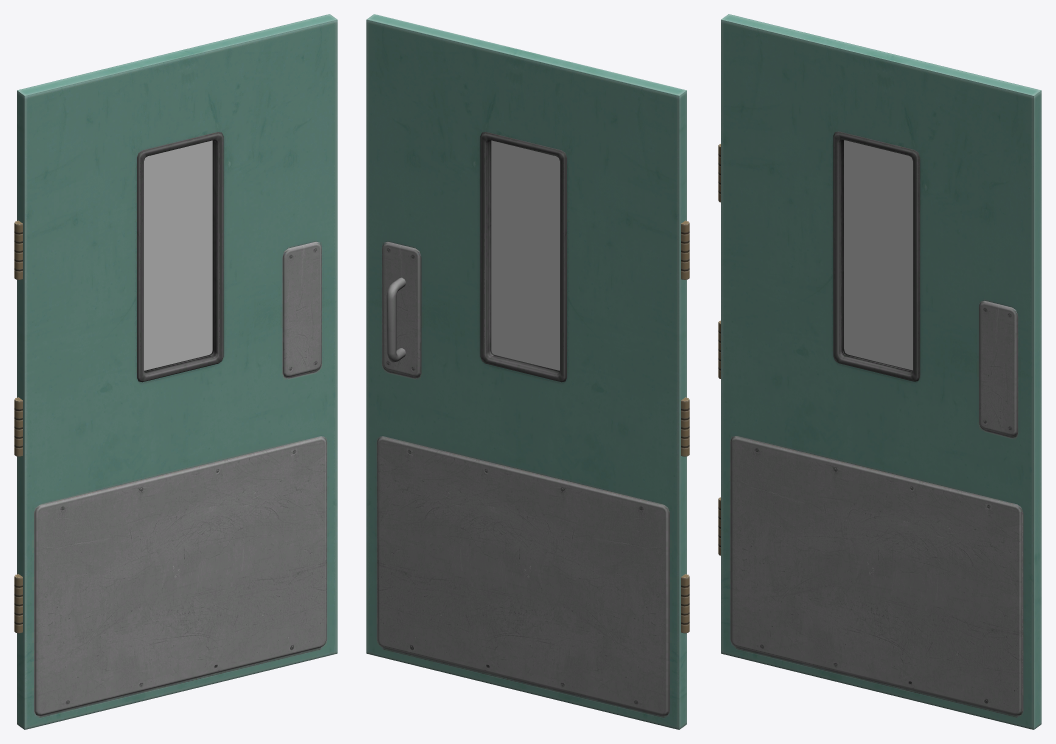
Rendered from swingdoor_hospital_left.dae.
3 renders of one model, left to right at view 1: azimuth 30°, elevation 25°; view 2: azimuth 150°, elevation 25°; view 3: azimuth 330°, elevation 25°, orthographic.
Visible parts, largest first — view 1: door_left, glass_left; view 2: door_left, glass_left; view 3: door_left, glass_left.
Part boxes in pixels (<box>): door_left: <box>14,14,337,729</box>; glass_left: <box>144,140,212,370</box>; door_left: <box>366,14,689,729</box>; glass_left: <box>491,140,559,370</box>; door_left: <box>718,14,1041,729</box>; glass_left: <box>844,140,912,370</box>.
Size of the model in its own units: 1.5 by 2.86 by 0.185.
